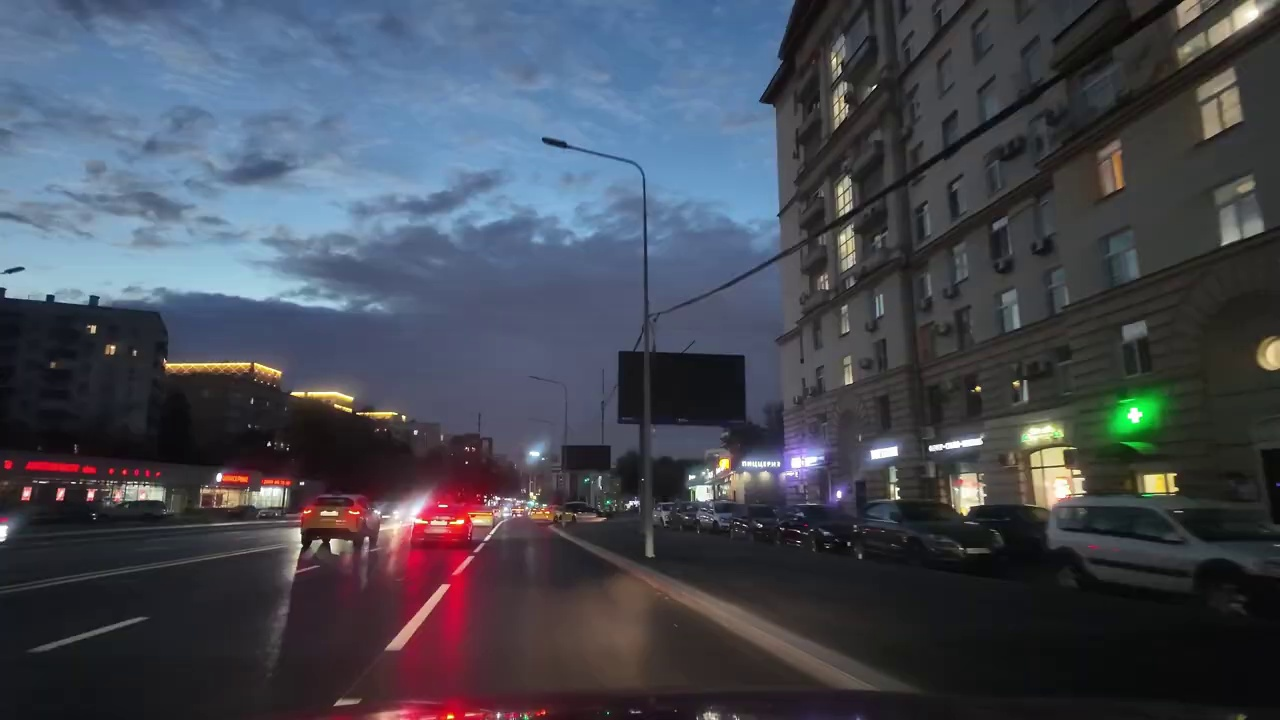apagada: (535, 124, 581, 168)
